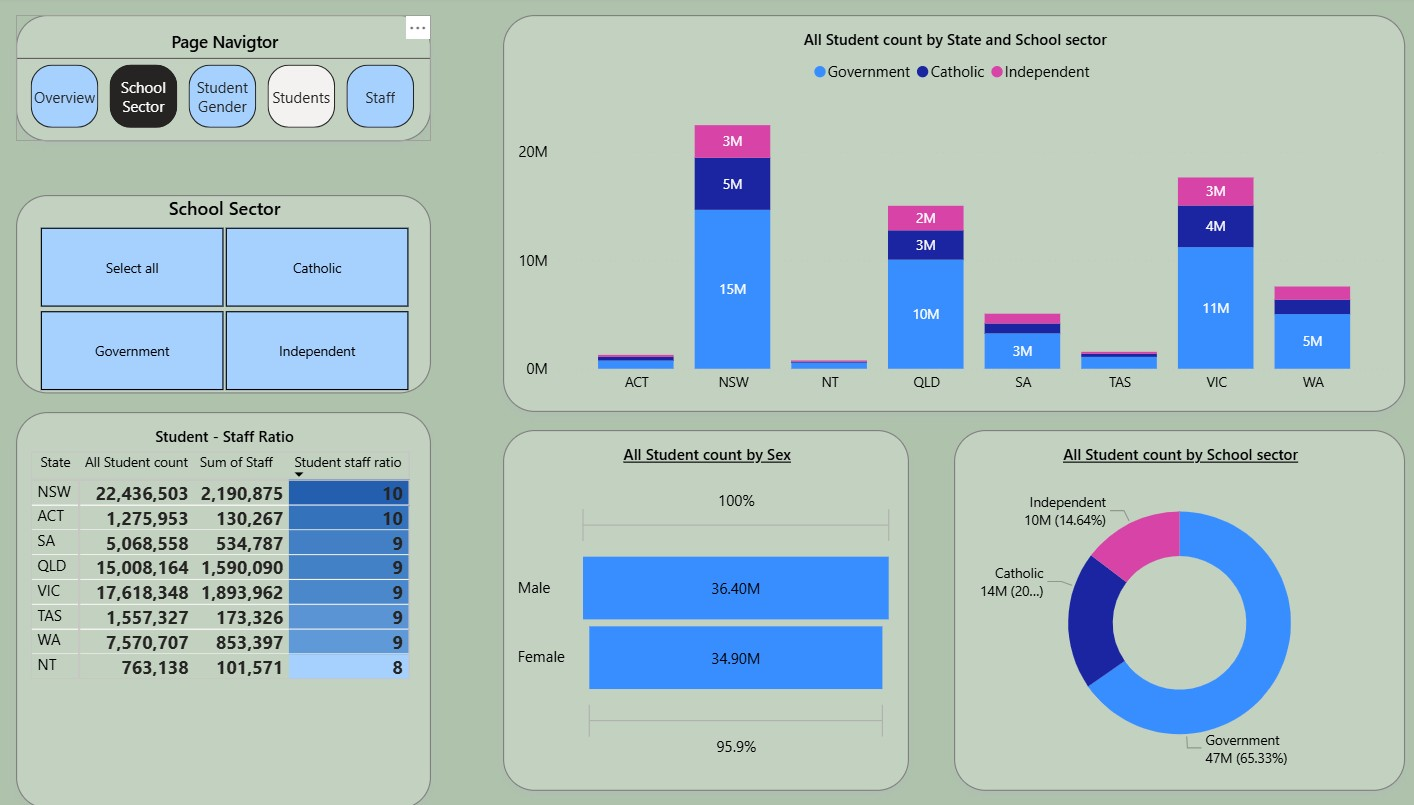

This screenshot's page, from the dashboard's own definition file:
{"tool":"powerbi","page":{"name":"School Sector","canvas":[1280,720],"ordinal":2},"visuals":[{"type":"columnChart","title":"Student Count by State and School sector","fields":{"Y":["All Measures.All Student count"],"Series":["DimSchoolSector.School sector"],"Category":["DimState.State"]},"box":[448,16,800,352],"z":0},{"type":"slicer","title":"School Sector","fields":{"Values":["DimSchoolSector.School sector"]},"box":[16,176,368,176],"z":1000},{"type":"pivotTable","title":"Student - Staff Ratio","fields":{"Rows":["DimState.State"],"Values":["All Measures.All Student count","Sum(Staff.Staff)","All Measures.Student staff ration"]},"box":[16,368,368,352],"z":2000},{"type":"funnel","title":"% of Student by Sex","fields":{"Category":["Students.Sex"],"Y":["All Measures.All Student count"]},"box":[448,384,360,320],"z":3000},{"type":"donutChart","title":"Student Count by School sector","fields":{"Y":["All Measures.All Student count"],"Series":["DimSchoolSector.School sector"]},"box":[832,384,416,320],"z":5000},{"type":"pageNavigator","title":"Page Navigtor","box":[16,16,368,152],"z":5001}]}

Visuals, with their boxes in screenshot pixels (x1, y1, x2, y2), scaled from the page's 1280x720 canvas onto the 1414x805 screenshot:
"Student Count by State and School sector" columnChart: {"left": 495, "top": 18, "right": 1379, "bottom": 411}
"School Sector" slicer: {"left": 18, "top": 197, "right": 424, "bottom": 394}
"Student - Staff Ratio" pivotTable: {"left": 18, "top": 411, "right": 424, "bottom": 804}
"% of Student by Sex" funnel: {"left": 495, "top": 429, "right": 893, "bottom": 787}
"Student Count by School sector" donutChart: {"left": 919, "top": 429, "right": 1379, "bottom": 787}
"Page Navigtor" pageNavigator: {"left": 18, "top": 18, "right": 424, "bottom": 188}
